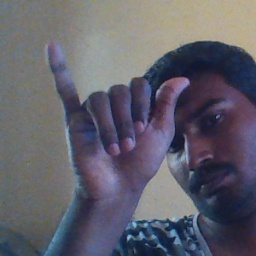J: (45, 42, 190, 188)
